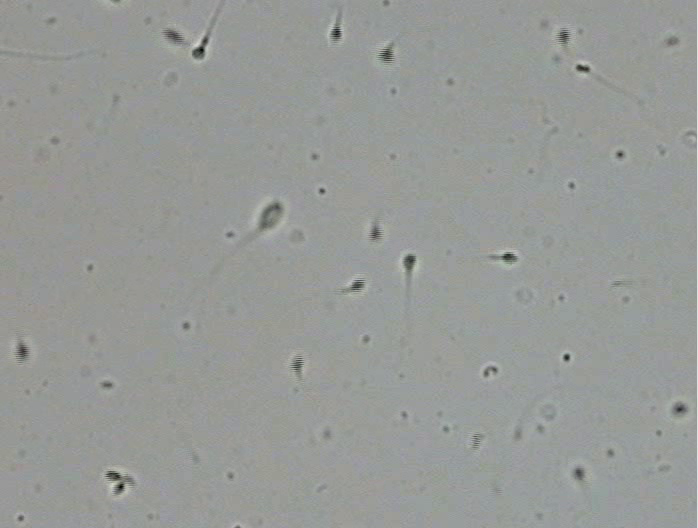S: (258, 202, 285, 230), (162, 28, 184, 46), (13, 343, 30, 365), (377, 47, 395, 64), (556, 27, 571, 46), (368, 225, 384, 242), (290, 354, 305, 372), (349, 278, 366, 292), (402, 254, 416, 271), (500, 251, 518, 264), (104, 470, 123, 482), (329, 26, 342, 43), (191, 46, 206, 60), (111, 483, 125, 496), (672, 403, 687, 415), (573, 467, 585, 480), (575, 63, 590, 73)
